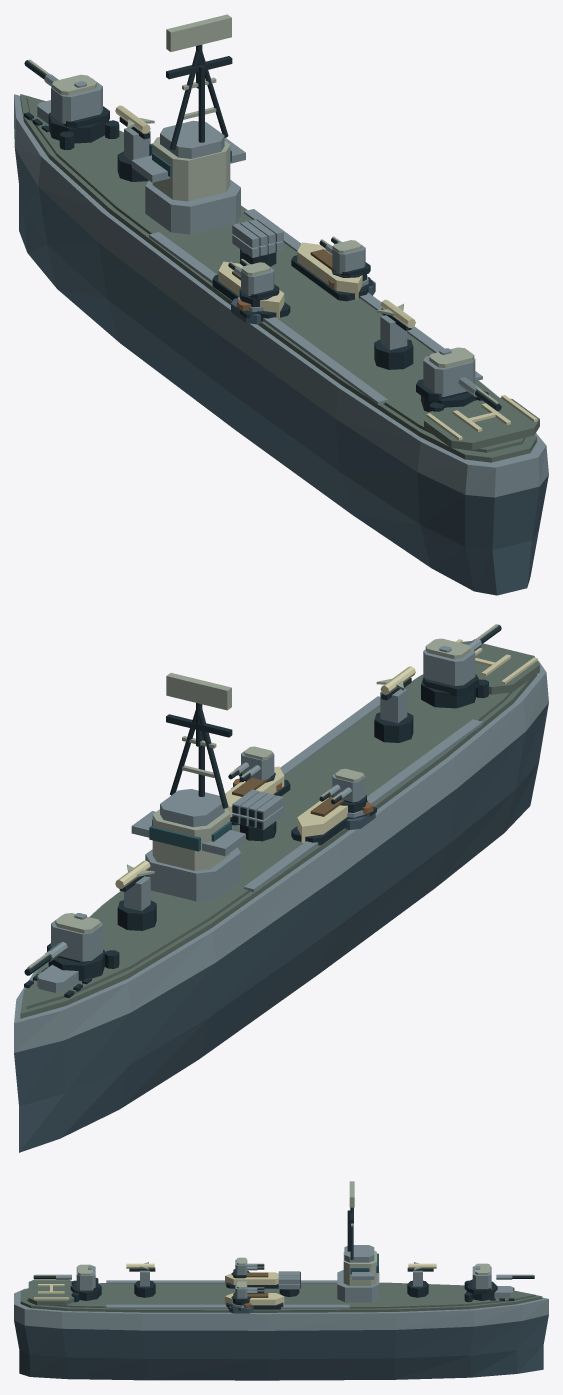
File: historic-california.glb
The picture shows the model from 3 angles, top to bottom: view 1: azimuth 30°, elevation 25°; view 2: azimuth 150°, elevation 25°; view 3: azimuth 270°, elevation 25°; orthographic projection. The views are drawn at different scales.
Parts seen in each view (by area): view 1: historic-california-historic-california-geometry, historic-california-part_bridge.115-geometry, historic-california-turret_main_0.084-geometry, historic-california-turret_main_1.077-geometry, historic-california-naval_launcher_1.005-geometry, historic-california-naval_launcher_2.004-geometry, historic-california-naval_launcher_0.009-geometry, historic-california-turret_aa_aa-port.117-geometry, historic-california-turret_aa_aa-starboard.113-geometry; view 2: historic-california-historic-california-geometry, historic-california-part_bridge.115-geometry, historic-california-turret_main_1.077-geometry, historic-california-turret_main_0.084-geometry, historic-california-naval_launcher_1.005-geometry, historic-california-naval_launcher_0.009-geometry, historic-california-naval_launcher_2.004-geometry, historic-california-turret_aa_aa-port.117-geometry, historic-california-turret_aa_aa-starboard.113-geometry; view 3: historic-california-historic-california-geometry, historic-california-part_bridge.115-geometry, historic-california-turret_main_0.084-geometry, historic-california-turret_main_1.077-geometry, historic-california-naval_launcher_0.009-geometry, historic-california-naval_launcher_1.005-geometry, historic-california-naval_launcher_2.004-geometry, historic-california-turret_aa_aa-starboard.113-geometry, historic-california-turret_aa_aa-port.117-geometry.
Boxes of the visible parts, bbox=[...] form: historic-california-historic-california-geometry: bbox=[14, 94, 548, 595]; historic-california-part_bridge.115-geometry: bbox=[131, 14, 245, 234]; historic-california-turret_main_0.084-geometry: bbox=[24, 59, 109, 143]; historic-california-turret_main_1.077-geometry: bbox=[416, 347, 501, 411]; historic-california-naval_launcher_1.005-geometry: bbox=[374, 299, 415, 369]; historic-california-naval_launcher_2.004-geometry: bbox=[232, 217, 283, 266]; historic-california-naval_launcher_0.009-geometry: bbox=[115, 105, 154, 181]; historic-california-turret_aa_aa-port.117-geometry: bbox=[228, 259, 279, 307]; historic-california-turret_aa_aa-starboard.113-geometry: bbox=[319, 236, 370, 281]; historic-california-historic-california-geometry: bbox=[14, 639, 548, 1152]; historic-california-part_bridge.115-geometry: bbox=[131, 673, 245, 901]; historic-california-turret_main_1.077-geometry: bbox=[421, 624, 501, 708]; historic-california-turret_main_0.084-geometry: bbox=[24, 913, 104, 980]; historic-california-naval_launcher_1.005-geometry: bbox=[374, 666, 415, 742]; historic-california-naval_launcher_0.009-geometry: bbox=[115, 860, 156, 930]; historic-california-naval_launcher_2.004-geometry: bbox=[232, 789, 283, 841]; historic-california-turret_aa_aa-port.117-geometry: bbox=[319, 768, 366, 812]; historic-california-turret_aa_aa-starboard.113-geometry: bbox=[228, 746, 275, 782]; historic-california-historic-california-geometry: bbox=[14, 1272, 548, 1380]; historic-california-part_bridge.115-geometry: bbox=[337, 1181, 379, 1302]; historic-california-turret_main_0.084-geometry: bbox=[466, 1263, 534, 1300]; historic-california-turret_main_1.077-geometry: bbox=[33, 1264, 101, 1300]; historic-california-naval_launcher_0.009-geometry: bbox=[407, 1262, 436, 1297]; historic-california-naval_launcher_1.005-geometry: bbox=[126, 1262, 155, 1297]; historic-california-naval_launcher_2.004-geometry: bbox=[278, 1271, 300, 1296]; historic-california-turret_aa_aa-starboard.113-geometry: bbox=[231, 1281, 264, 1305]; historic-california-turret_aa_aa-port.117-geometry: bbox=[231, 1257, 264, 1278].
Size of the model in its own units: 0.6539 by 1.61 by 4.32.
